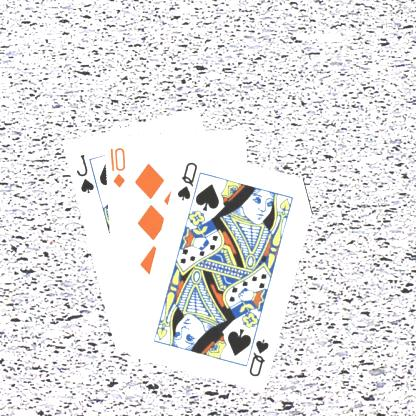10D: (106, 144, 126, 189)
JS: (72, 151, 95, 195)
QS: (174, 158, 198, 202), (246, 335, 270, 378)
